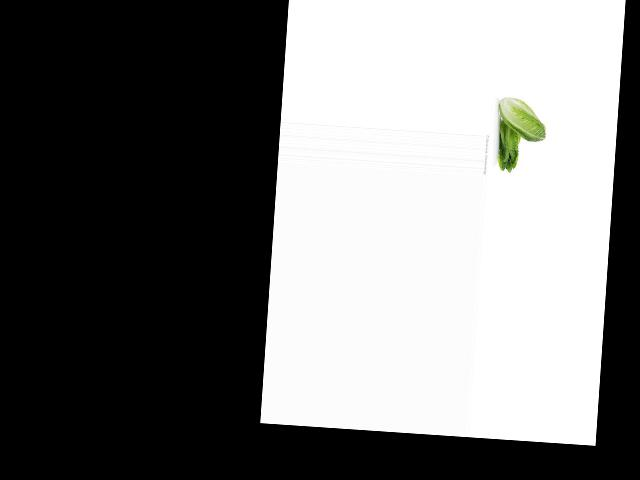lettuce: (490, 119, 526, 172)
